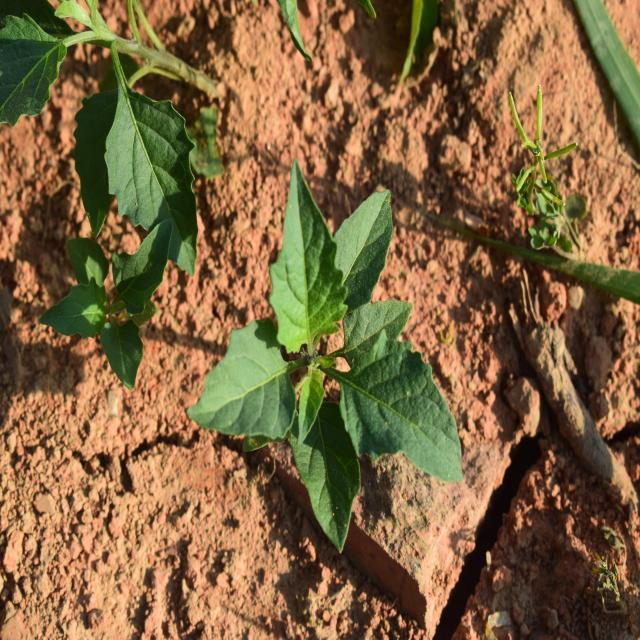Black_nightshade: (214, 182, 457, 546)
